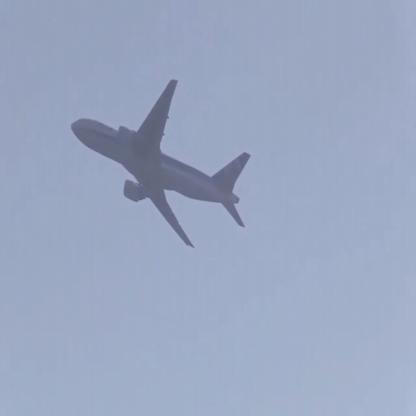CIV_Plane: (70, 80, 258, 248)
